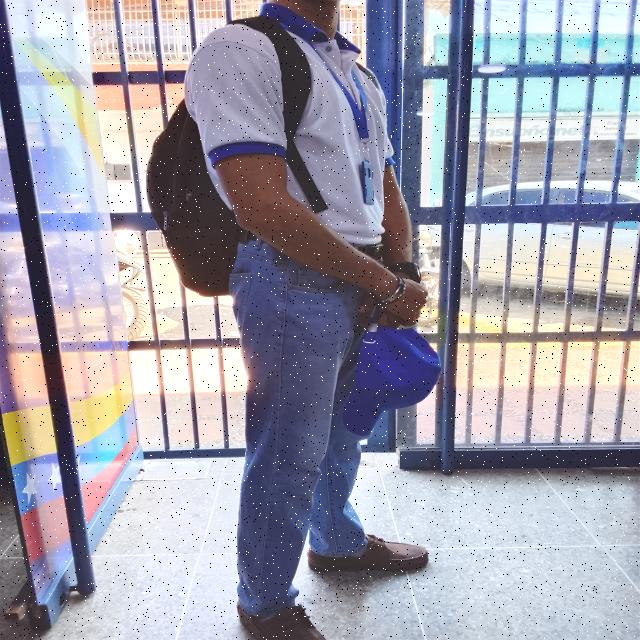carnet: (361, 161, 375, 205)
uniforme_superior: (184, 2, 396, 244)
